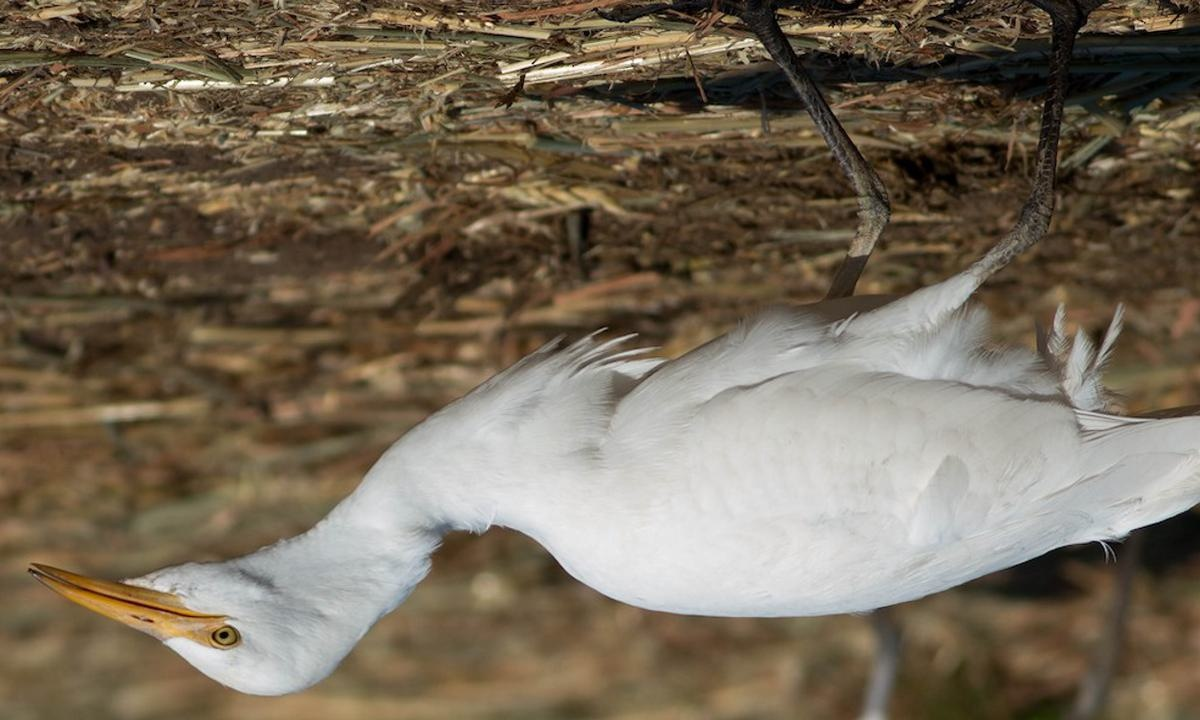egret: (32, 66, 1200, 691)
